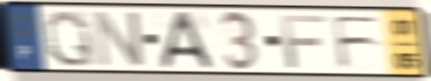3: (217, 8, 260, 73)
A: (157, 9, 216, 70)
F: (330, 14, 385, 71), (278, 14, 328, 70)
N: (91, 8, 147, 70)
Q: (42, 8, 98, 69)
